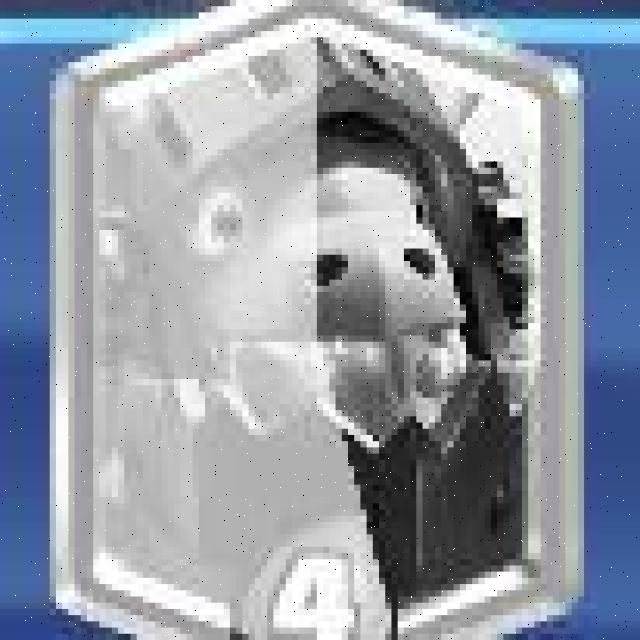Inferno_Dragon: (70, 1, 576, 640)
